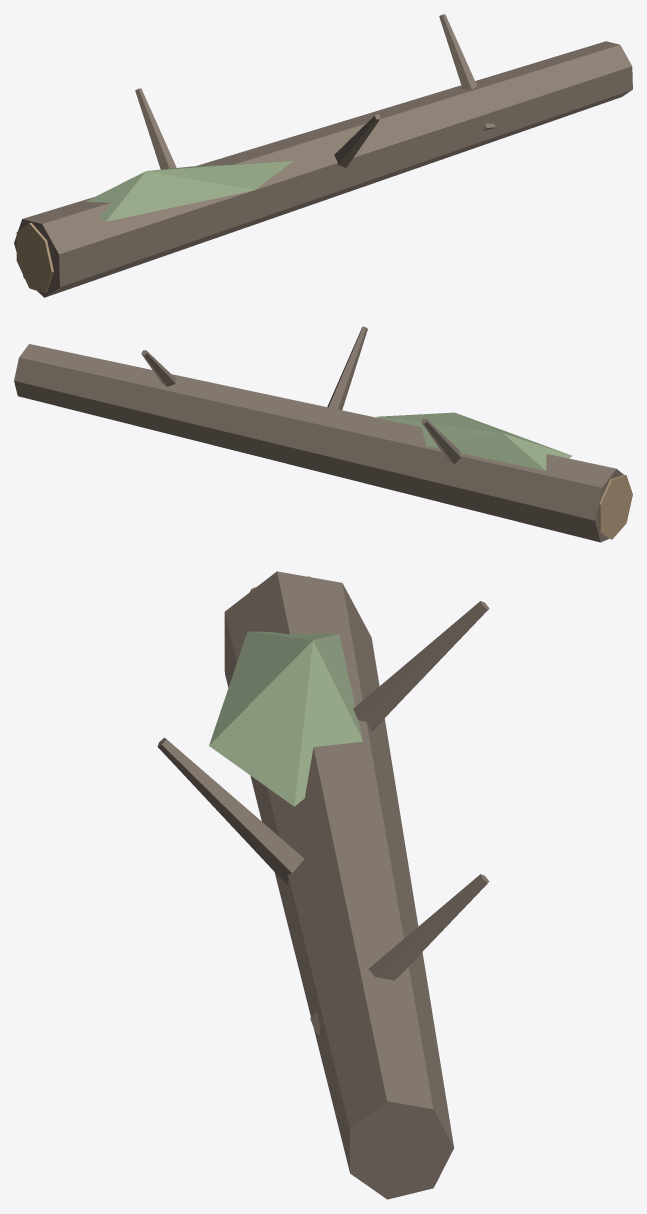
The picture shows the model from 3 angles, top to bottom: view 1: azimuth 30°, elevation 25°; view 2: azimuth 150°, elevation 25°; view 3: azimuth 270°, elevation 25°; orthographic projection. The views are drawn at different scales.
Bounding box in the file's own units: 8.09 × 1.66 × 2.06.
